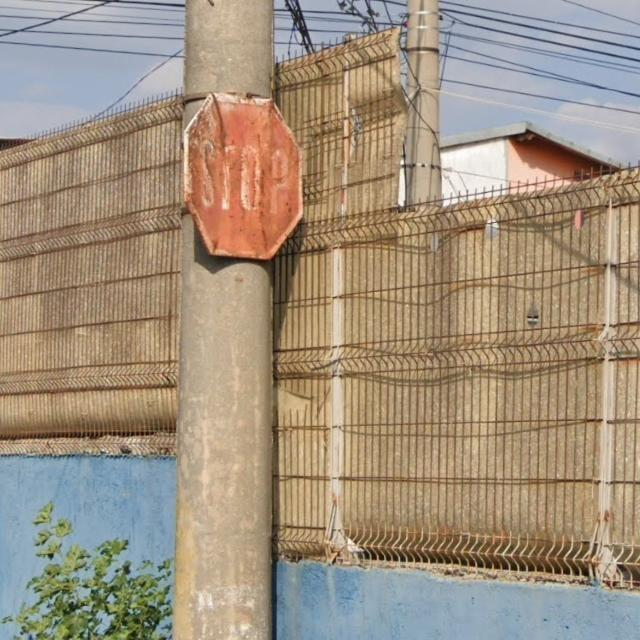prio_stop: (184, 89, 307, 260)
